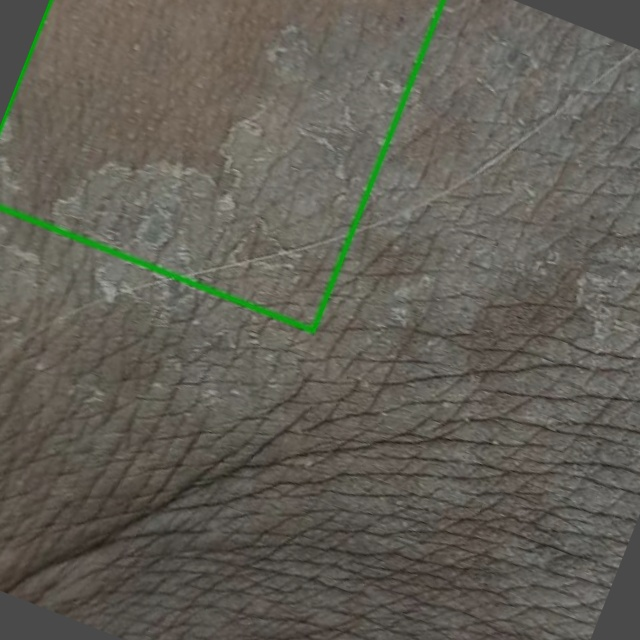Eczema: (0, 0, 443, 331)
